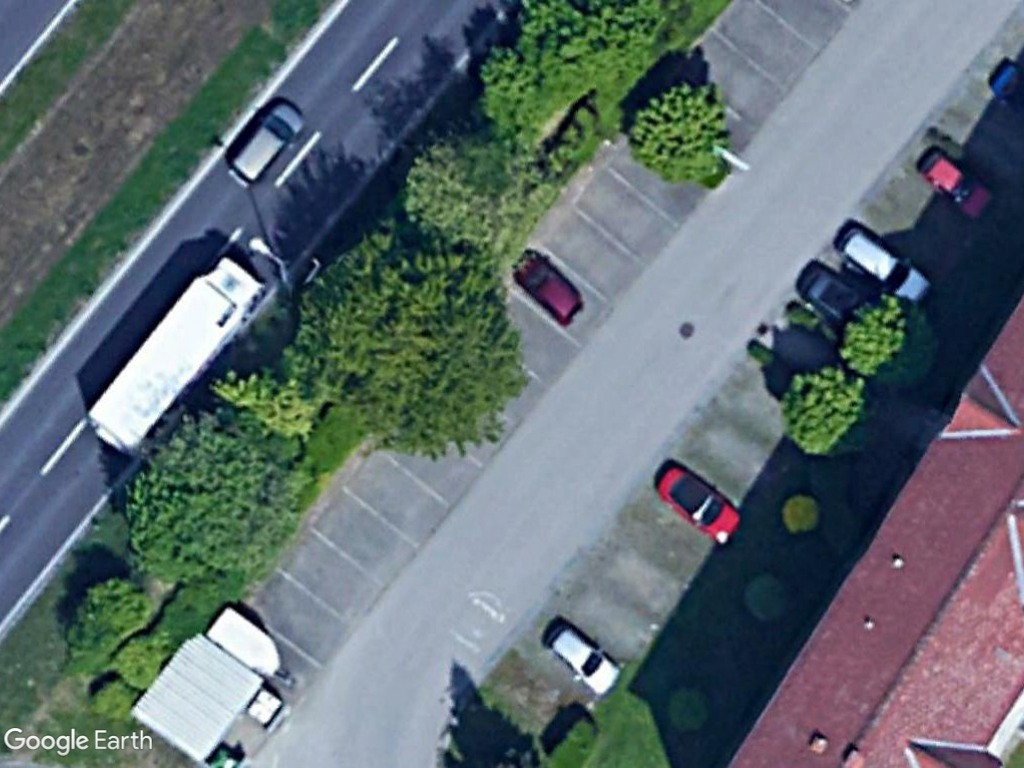car: (838, 223, 936, 314), (649, 464, 745, 549), (222, 100, 306, 193), (508, 248, 592, 329), (542, 620, 624, 699), (916, 148, 992, 220)
